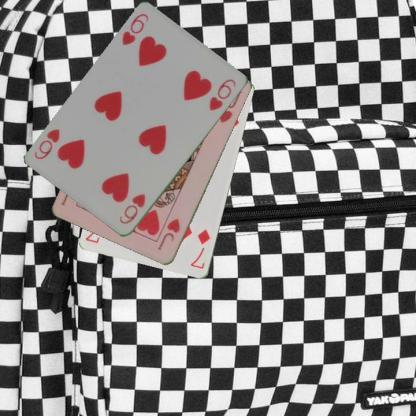6h: (119, 10, 150, 48), (116, 191, 147, 226)
7d: (188, 226, 212, 271)
Jh: (155, 217, 182, 252)
